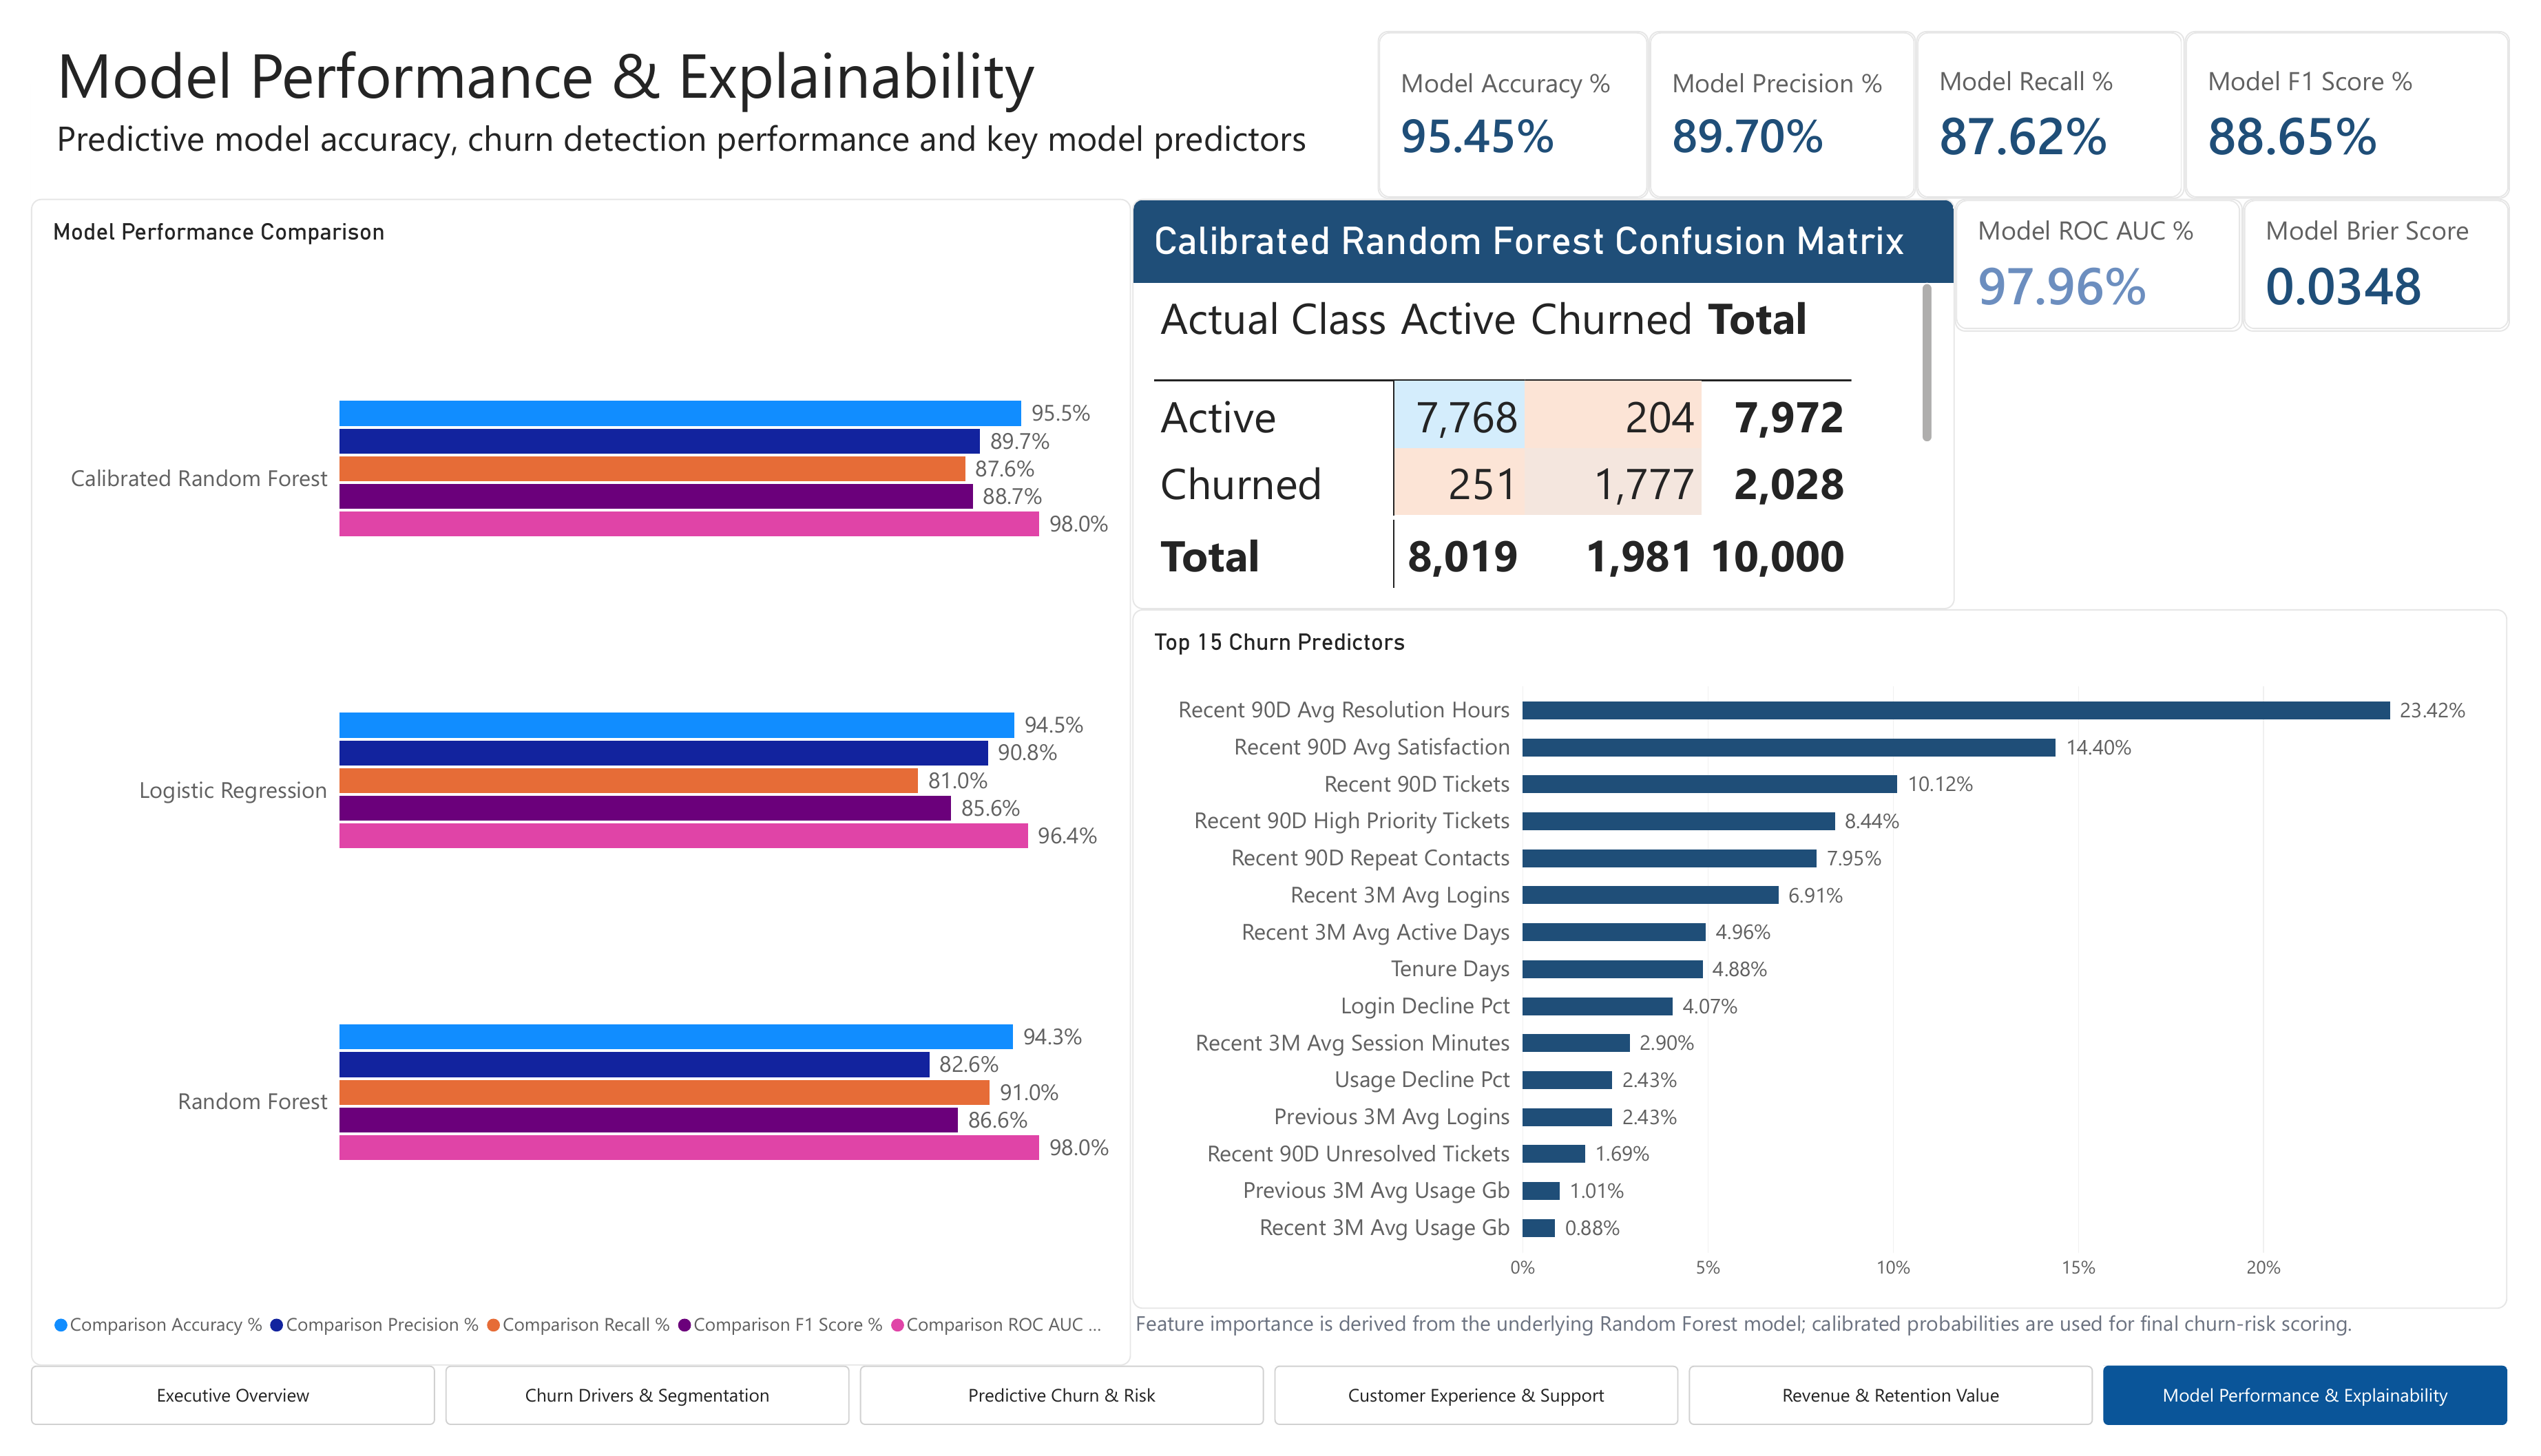

The dashboard page shown, as its layout file describes it:
{"tool":"powerbi","page":{"name":"Model Performance & Explainability","canvas":[1920,1080],"ordinal":5},"visuals":[{"type":"textbox","box":[20,0,1022.5,130],"z":0},{"type":"cardVisual","fields":{"Data":["Measures (2).Model Accuracy %"]},"box":[1042.5,0,210,130],"z":1000},{"type":"cardVisual","fields":{"Data":["Measures (2).Model Precision %"]},"box":[1252.5,0,207.5,130],"z":2000},{"type":"cardVisual","fields":{"Data":["Measures (2).Model F1 Score %"]},"box":[1667.5,0,252.5,130],"z":3000},{"type":"cardVisual","fields":{"Data":["Measures (2).Model Recall %"]},"box":[1460,0,207.5,130],"z":4000},{"type":"cardVisual","fields":{"Data":["Measures (2).Model ROC AUC %"]},"box":[1490,130,222.5,102.5],"z":5000},{"type":"cardVisual","fields":{"Data":["Measures (2).Model Brier Score"]},"box":[1712.5,130,207.5,102.5],"z":6000},{"type":"clusteredBarChart","title":"Model Performance Comparison","fields":{"Category":["ModelPerformance.model_name"],"Y":["Measures (2).Comparison Accuracy %","Measures (2).Comparison Precision %","Measures (2).Comparison Recall %","Measures (2).Comparison F1 Score %","Measures (2).Comparison ROC AUC %"]},"box":[0,130,852,904],"z":7000},{"type":"pivotTable","title":"Calibrated Random Forest Confusion Matrix","fields":{"Rows":["ModelConfusionmatrix.actual_class"],"Columns":["ModelConfusionmatrix.predicted_class"],"Values":["Sum(ModelConfusionmatrix.customer_count)"]},"box":[852.5,130,637.5,317.5],"z":8000},{"type":"clusteredBarChart","title":"Top 15 Churn Predictors","fields":{"Category":["ModelFeatureImportance.feature_name"],"Y":["Sum(ModelFeatureImportance.importance)"]},"box":[852.5,447.5,1065,542.5],"z":9000},{"type":"textbox","box":[856,990,1064,30],"z":10000},{"type":"pageNavigator","box":[0,1034,1918,46],"z":11000}]}

Visuals, with their boxes in screenshot pixels (x1, y1, x2, y2), scaled from the page's 1920x1080 canvas onto the 2541x1456 screenshot:
textbox: detection(26, 0, 1380, 176)
cardVisual - Measures (2).Model Accuracy %: detection(1380, 0, 1658, 176)
cardVisual - Measures (2).Model Precision %: detection(1658, 0, 1932, 176)
cardVisual - Measures (2).Model F1 Score %: detection(2207, 0, 2540, 176)
cardVisual - Measures (2).Model Recall %: detection(1932, 0, 2207, 176)
cardVisual - Measures (2).Model ROC AUC %: detection(1972, 176, 2266, 313)
cardVisual - Measures (2).Model Brier Score: detection(2266, 176, 2540, 313)
"Model Performance Comparison" clusteredBarChart: detection(0, 176, 1127, 1394)
"Calibrated Random Forest Confusion Matrix" pivotTable: detection(1128, 176, 1972, 603)
"Top 15 Churn Predictors" clusteredBarChart: detection(1128, 603, 2538, 1335)
textbox: detection(1133, 1335, 2540, 1375)
pageNavigator: detection(0, 1394, 2538, 1455)
